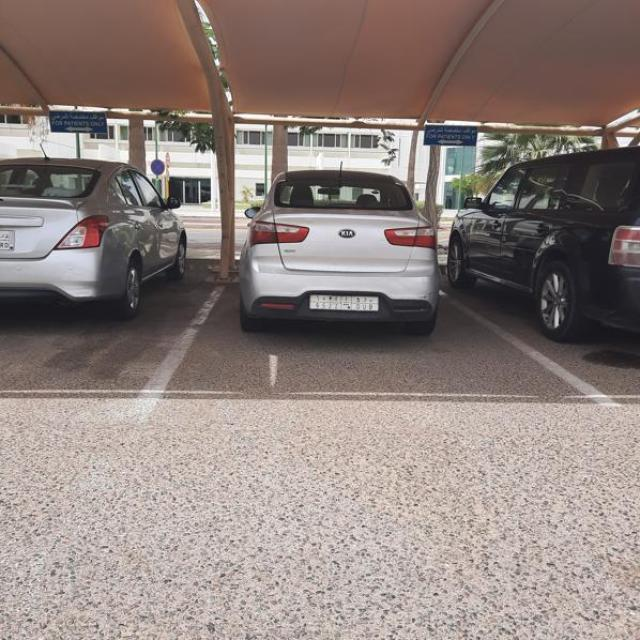license_plate: (309, 293, 380, 313), (0, 229, 17, 251)
